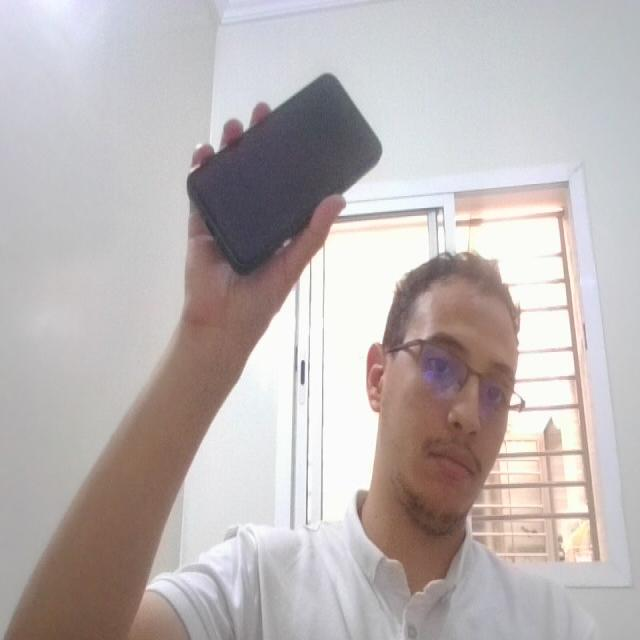phone: (176, 65, 387, 281)
